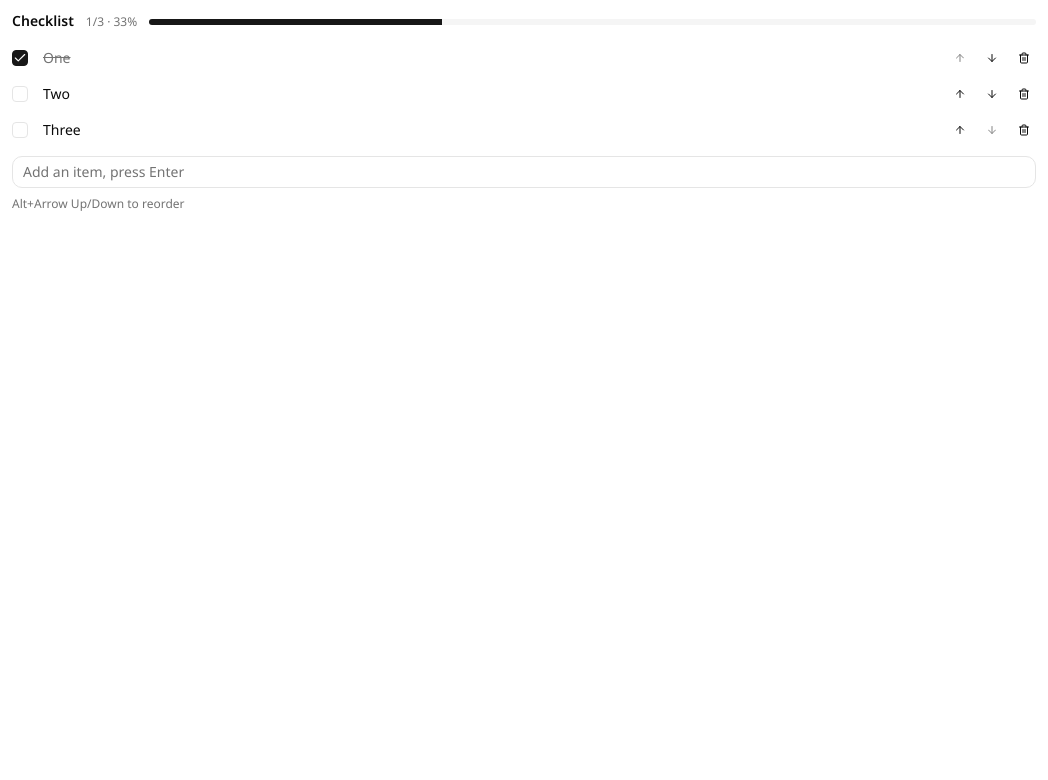
Checklist › delete offers Undo, which re-creates the item in its old place
Later steps or results of the test are not shown.
Click the button named "Delete item Two" at (1024, 94), box left=1012, top=82, right=1036, bottom=106
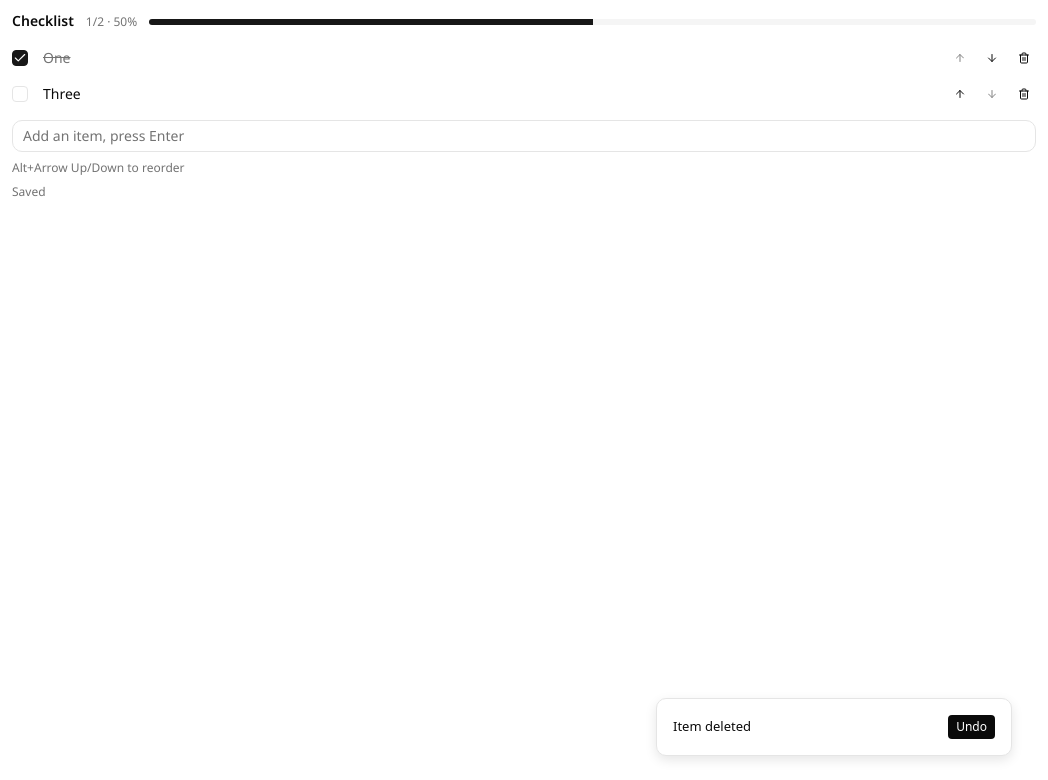
Expected: the number of checkboxes is 2, left=12, top=50, right=28, bottom=66; left=12, top=86, right=28, bottom=102
